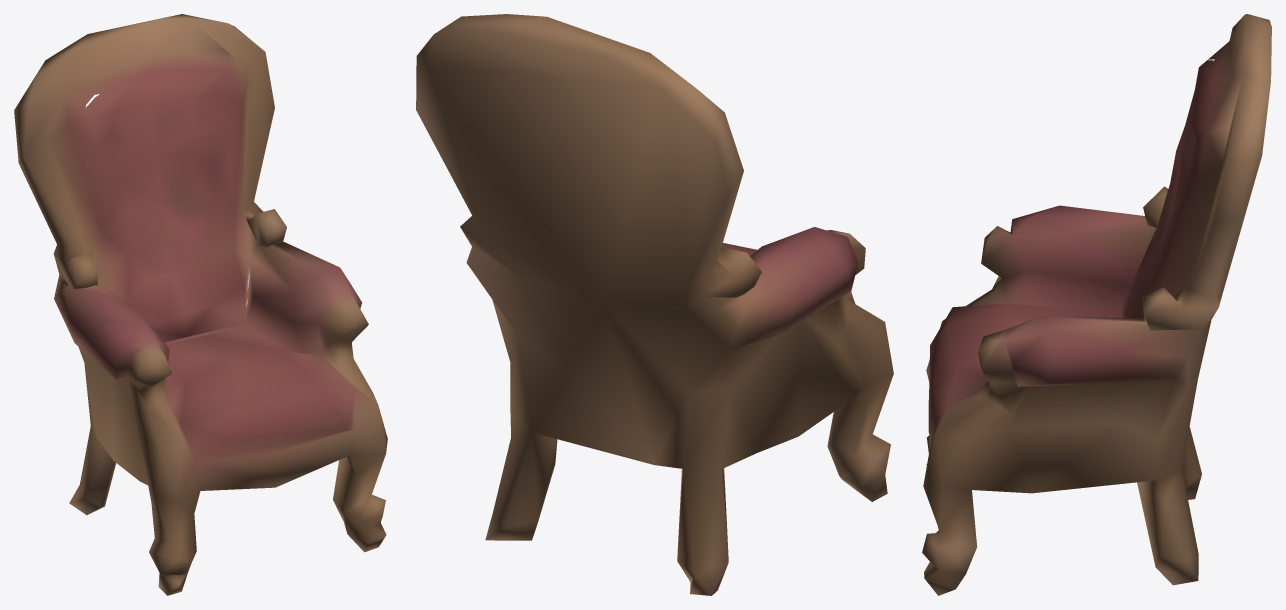
Rendered from Chair01.fbx.
3 renders of one model, left to right at view 1: azimuth 30°, elevation 25°; view 2: azimuth 150°, elevation 25°; view 3: azimuth 270°, elevation 25°, orthographic. The views are drawn at different scales.
Parts seen in each view (by area): view 1: Chair01; view 2: Chair01; view 3: Chair01.
Part boxes in pixels (box(x1,y1,x2,y2)): Chair01: box(14, 14, 387, 595); Chair01: box(416, 14, 893, 595); Chair01: box(922, 14, 1271, 595).
Bounding box in the file's own units: 89.41 × 150 × 94.52.
